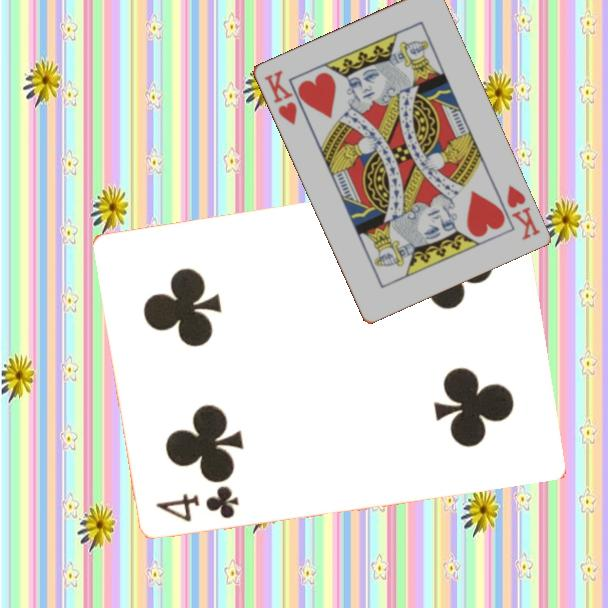c04: (153, 483, 242, 524)
h13: (503, 181, 543, 243), (260, 67, 300, 128)
